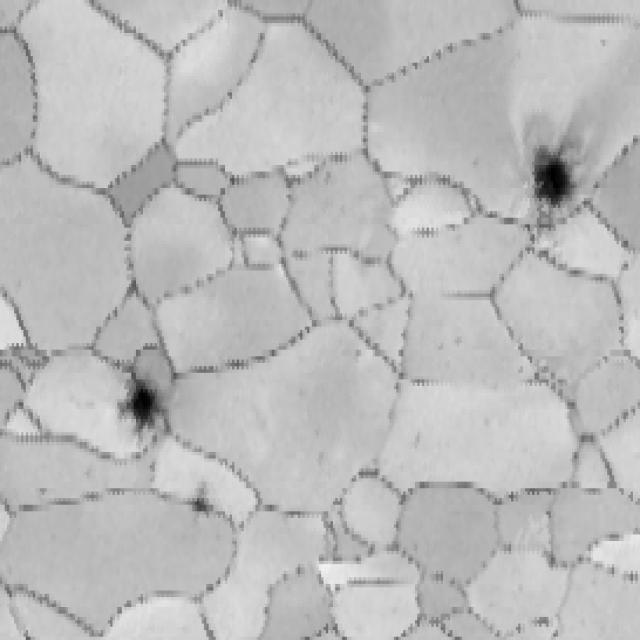good_void: (508, 114, 597, 235), (116, 357, 170, 439), (189, 473, 216, 526), (535, 610, 550, 632)
